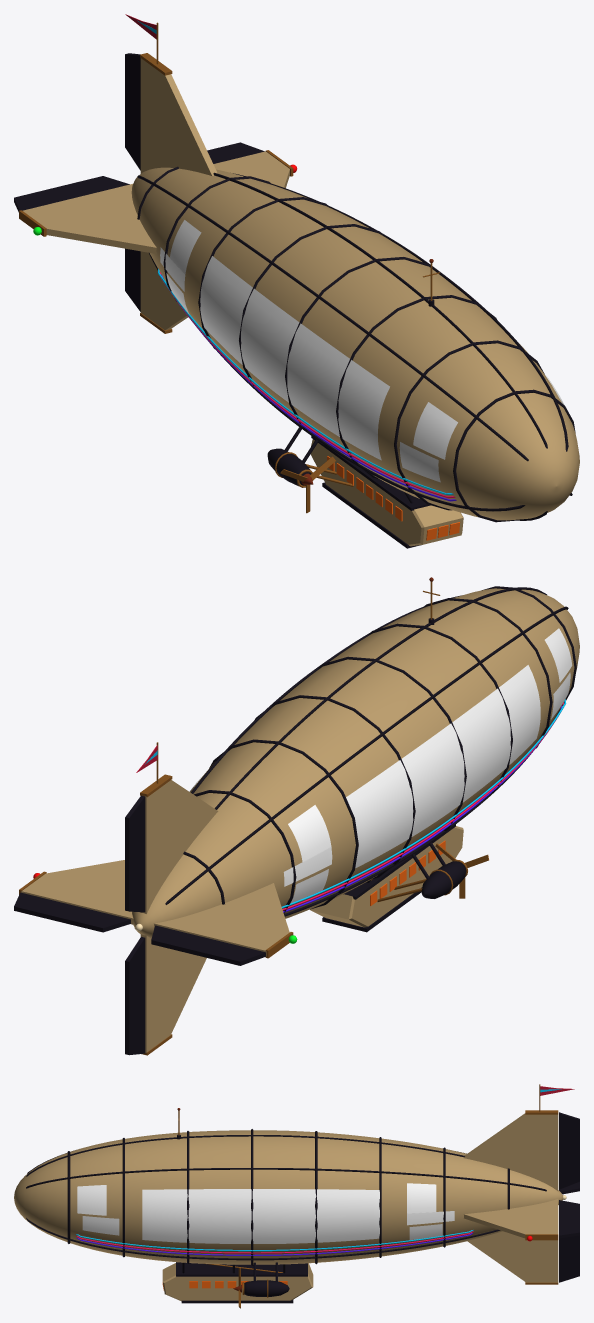
Rendered from Zeppelin_DriftXSkate.obj.
3 views of the same model, one above another, from view 1: azimuth 30°, elevation 25°; view 2: azimuth 150°, elevation 25°; view 3: azimuth 270°, elevation 25° (orthographic). The views are drawn at different scales.
Visible parts, largest first — view 1: Hull_Shell, Decal_DriftXSkate_R, Fin_Top, Fin_Right, Gondola_Body, Fin_Bottom, Rudder_Top_Surface, Stringer_4, Elevator_Right_Surface, Sticker_Badge_R, Fin_Left, Stringer_1 (+16 smaller); view 2: Hull_Shell, Decal_DriftXSkate_R, Fin_Top, Fin_Right, Fin_Bottom, Fin_Left, Gondola_Body, Rudder_Bottom_Surface, Rudder_Top_Surface, Elevator_Left_Surface, Elevator_Right_Surface, Stringer_4 (+17 smaller); view 3: Hull_Shell, Decal_DriftXSkate_L, Fin_Top, Fin_Bottom, Gondola_Body, Fin_Left, Gondola_RoofTrim, Rudder_Top_Surface, Stringer_3, Stringer_5, Stringer_1, Rudder_Bottom_Surface (+17 smaller).
Boxes of the visible parts, x1,y1,x2,y2 form: Hull_Shell: (131, 167, 579, 520); Decal_DriftXSkate_R: (200, 256, 389, 460); Fin_Top: (140, 58, 217, 176); Fin_Right: (23, 184, 156, 253); Gondola_Body: (310, 439, 463, 546); Fin_Bottom: (140, 251, 187, 330); Rudder_Top_Surface: (125, 53, 140, 170); Stringer_4: (137, 175, 528, 461); Elevator_Right_Surface: (14, 176, 129, 212); Sticker_Badge_R: (413, 402, 457, 459); Fin_Left: (213, 151, 289, 188); Stringer_1: (213, 172, 547, 448); Hull_Shell: (132, 588, 579, 938); Decal_DriftXSkate_R: (346, 665, 540, 868); Fin_Top: (140, 780, 218, 913); Fin_Right: (154, 883, 289, 957); Fin_Bottom: (140, 934, 206, 1052); Fin_Left: (21, 860, 133, 924); Gondola_Body: (310, 826, 463, 927); Rudder_Bottom_Surface: (125, 936, 145, 1055); Rudder_Top_Surface: (125, 795, 145, 912); Elevator_Left_Surface: (14, 892, 130, 932); Elevator_Right_Surface: (151, 925, 265, 965); Stringer_4: (165, 606, 568, 904); Hull_Shell: (14, 1130, 562, 1264); Decal_DriftXSkate_L: (142, 1189, 379, 1243); Fin_Top: (464, 1113, 558, 1191); Fin_Bottom: (467, 1231, 558, 1282); Gondola_Body: (162, 1263, 313, 1301); Fin_Left: (464, 1199, 558, 1238); Gondola_RoofTrim: (176, 1262, 307, 1276); Rudder_Top_Surface: (559, 1112, 579, 1189); Stringer_3: (26, 1168, 546, 1191); Stringer_5: (26, 1218, 500, 1260); Stringer_1: (26, 1135, 464, 1176); Rudder_Bottom_Surface: (559, 1235, 579, 1282).
Size of the model in its own units: 21.84 by 25.49 by 61.78.
